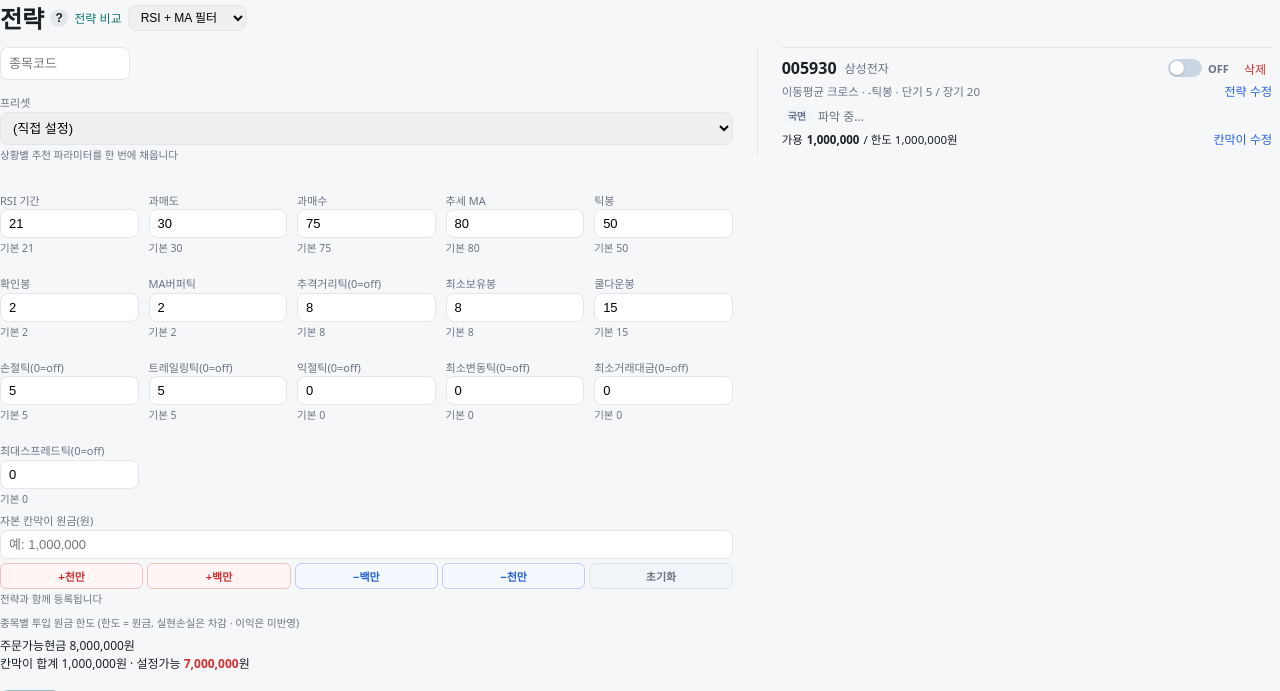
Test: StrategyPanel › 칸막이 수정 모달 +버튼도 설정가능(=설정가능+현재원금)을 넘으면 고정
Click the button "칸막이 수정": coordinates (1243, 138) [1213,130,1272,146]
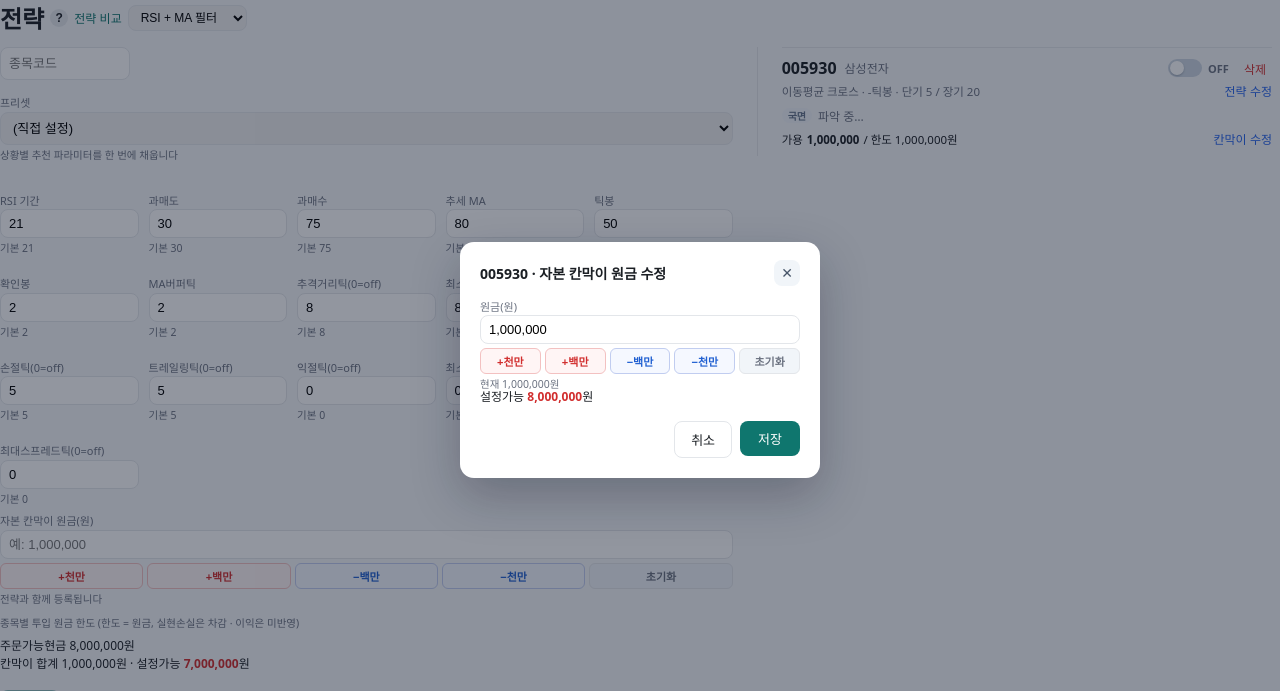
Click the button "+천만": coordinates (510, 361) [480,348,541,374]
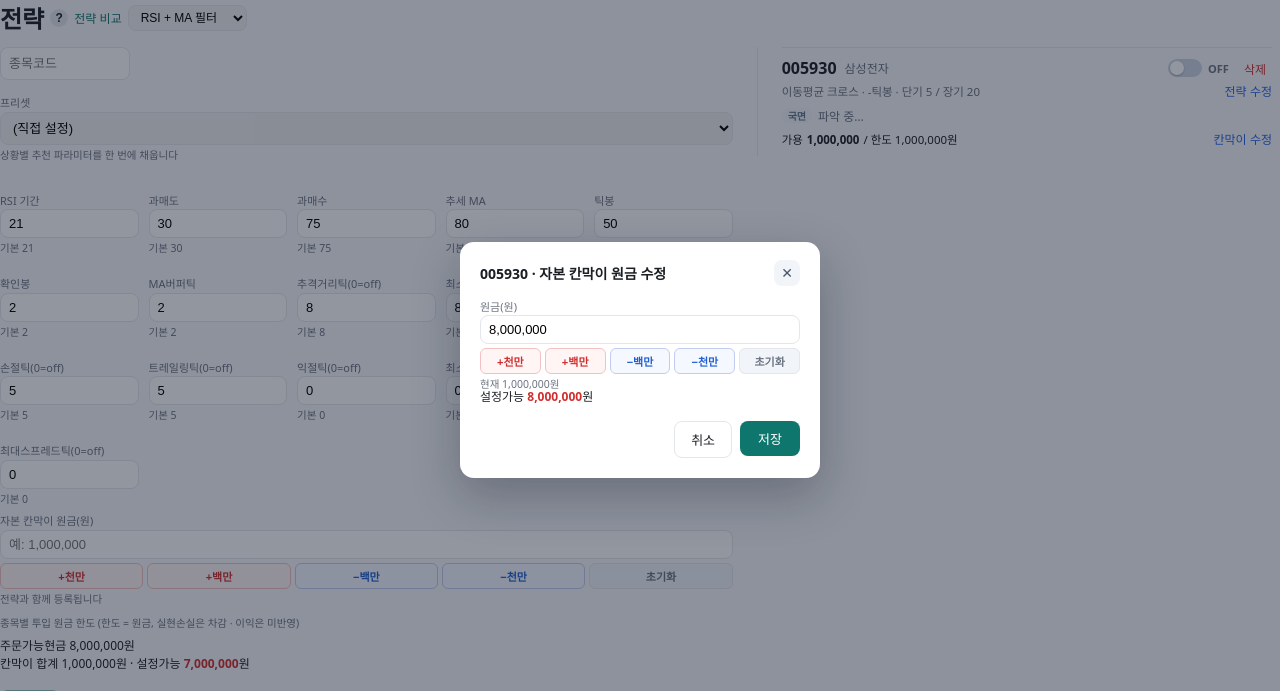
Expected: the field named "칸막이 수정 원금" holds "8,000,000", [480,315,800,344]
